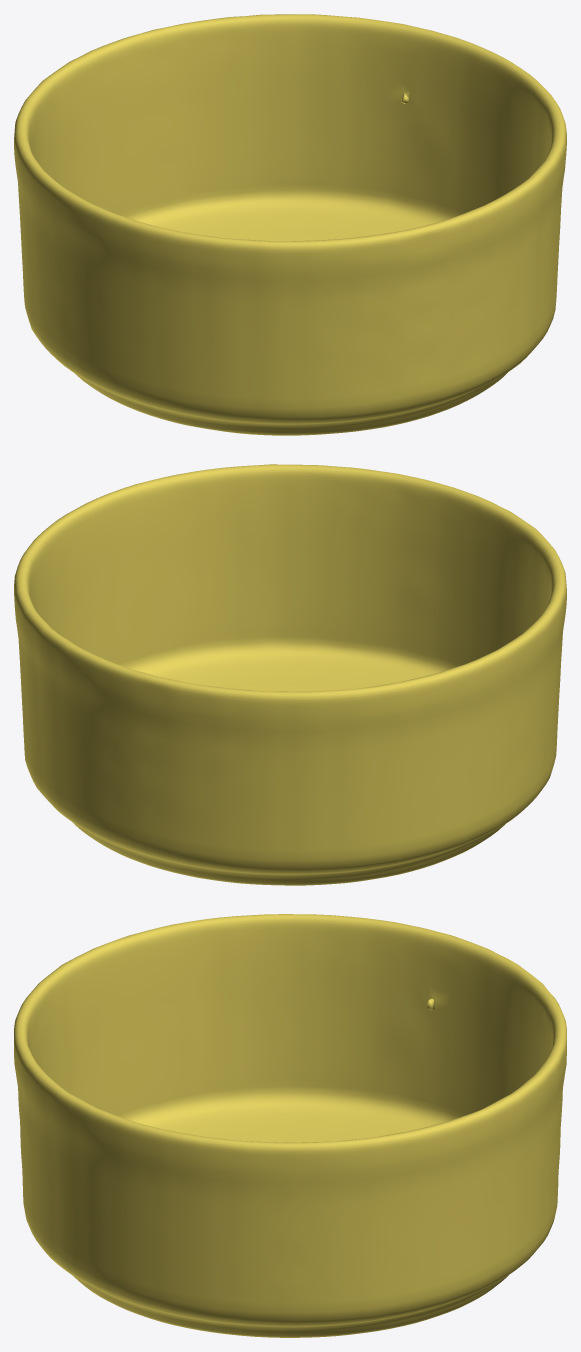
The picture shows the model from 3 angles, top to bottom: view 1: azimuth 30°, elevation 25°; view 2: azimuth 150°, elevation 25°; view 3: azimuth 270°, elevation 25°; orthographic projection.
Visible parts, largest first — view 1: model; view 2: model; view 3: model.
Part boxes in pixels (left/top/right/bottom): model: left=14, top=14, right=566, bottom=435; model: left=14, top=464, right=566, bottom=885; model: left=14, top=914, right=566, bottom=1337.
Bounding box in the file's own units: 2.37 × 1 × 2.36.
